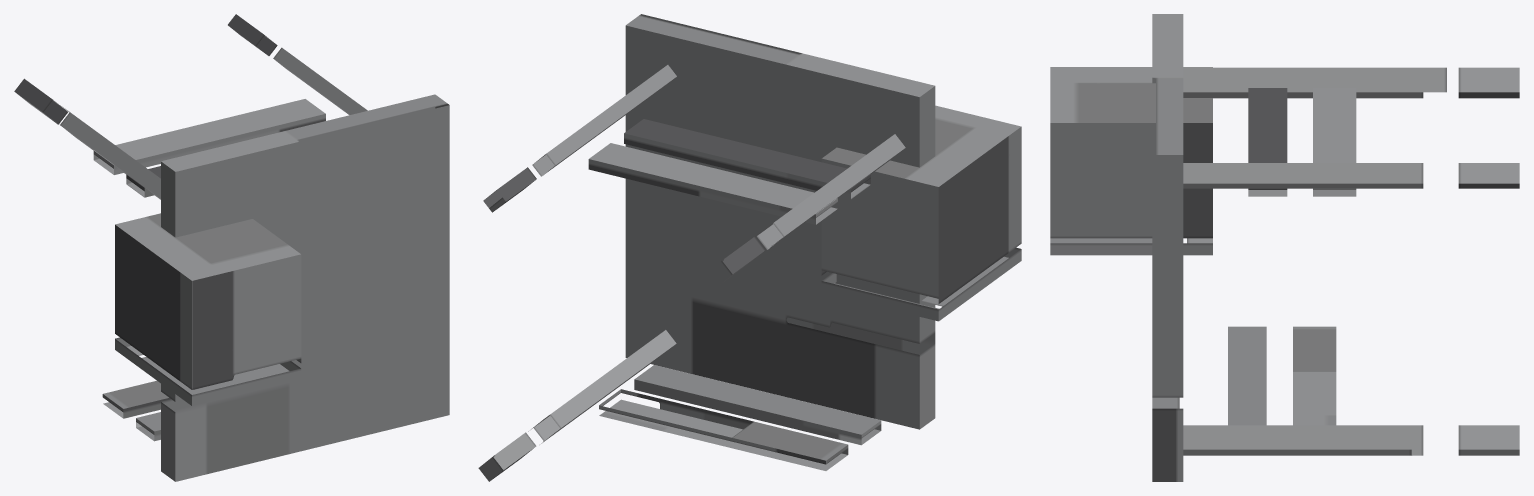
3 views of the same model, side by side, from view 1: azimuth 30°, elevation 25°; view 2: azimuth 150°, elevation 25°; view 3: azimuth 270°, elevation 25° (orthographic). The views are drawn at different scales.
Bounding box in the file's own units: 0.9198 × 0.8899 × 1.16.
